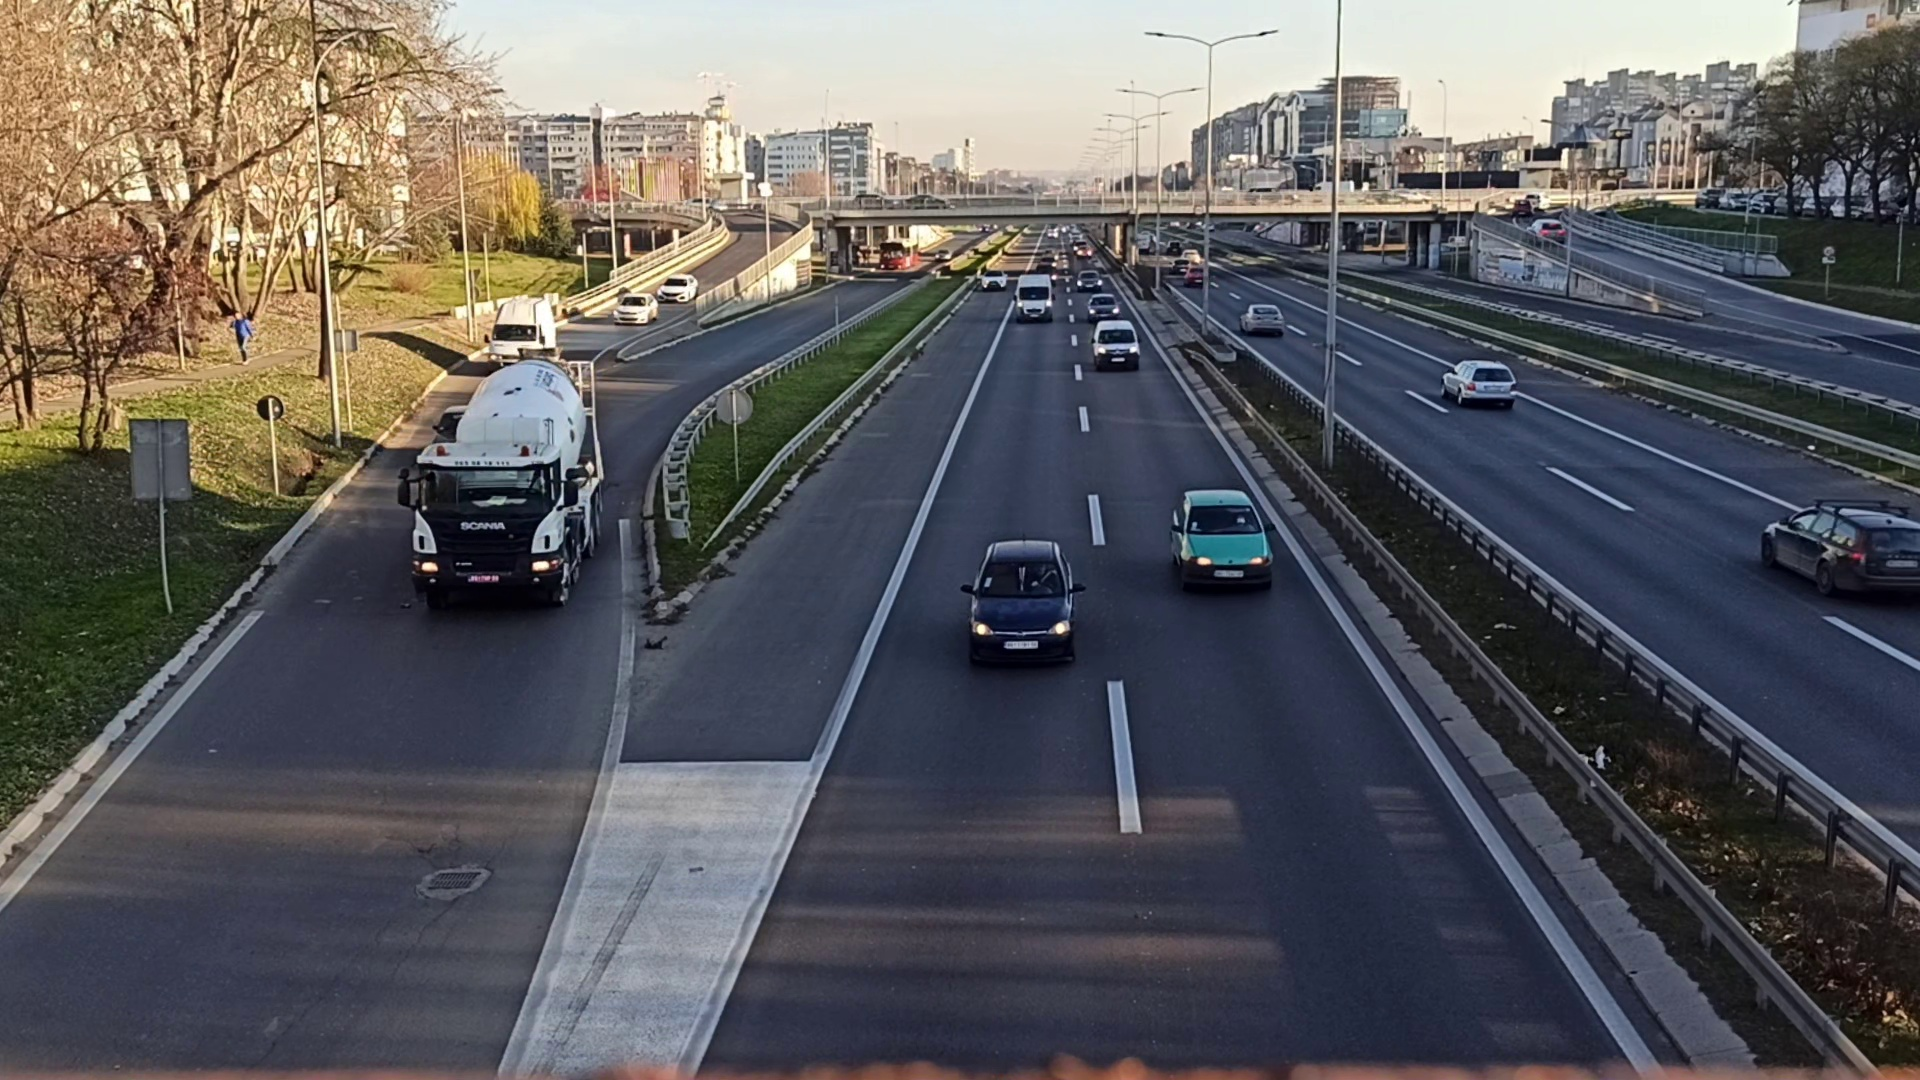car: (1758, 505, 1920, 605), (965, 539, 1077, 663), (1168, 489, 1274, 593), (1437, 359, 1518, 409), (1088, 320, 1142, 373), (1018, 276, 1051, 319), (1240, 303, 1284, 334)
truck: (407, 363, 603, 615)
